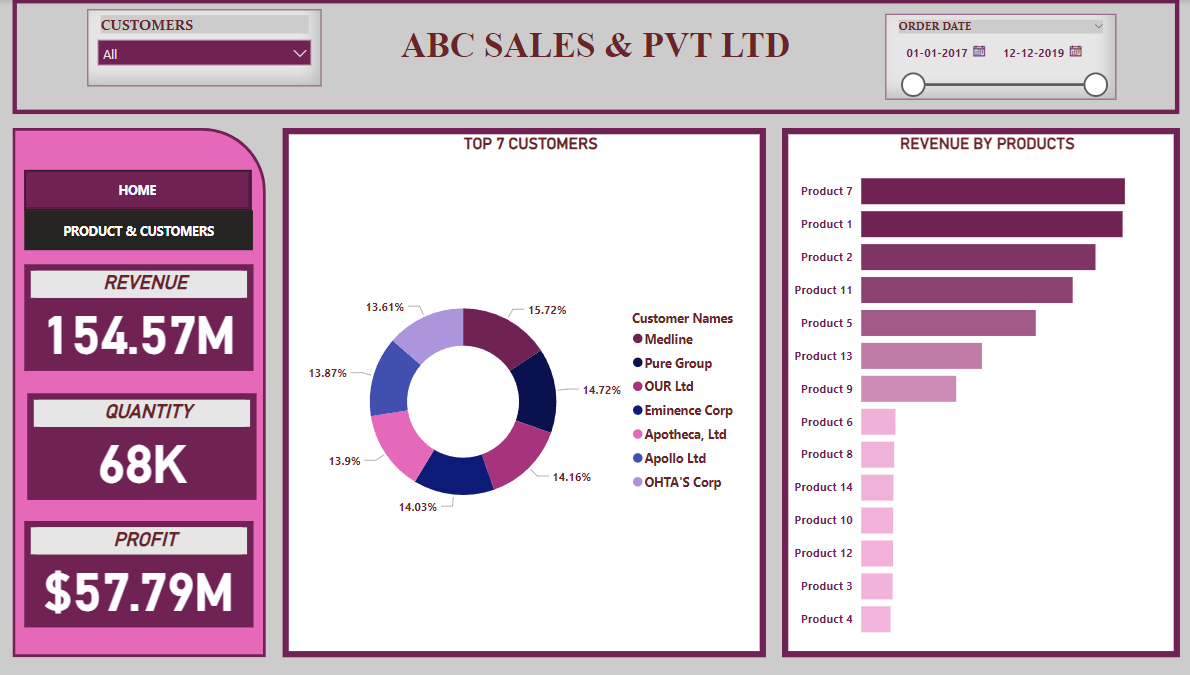

This screenshot's page, from the dashboard's own definition file:
{"tool":"powerbi","page":{"name":"PRODUCT & CUSTOMERS","canvas":[1280,720],"ordinal":1},"visuals":[{"type":"textbox","box":[14.8,0,1237,122.2],"z":0},{"type":"slicer","fields":{"Values":["Customer_Data.Customer Names"]},"box":[94.4,11.1,248.1,81.5],"z":1000},{"type":"slicer","fields":{"Values":["Sales_Data.OrderDate"]},"box":[940.7,16.7,244.4,90.7],"z":2000},{"type":"shape","box":[14.8,137,268.5,561.1],"z":3000},{"type":"card","title":"REVENUE","fields":{"Values":["Sum(Sales_Data.Total Revenue)"]},"box":[27.8,281.5,242.6,113],"z":4000},{"type":"card","title":"PROFIT","fields":{"Values":["Sum(Sales_Data.PROFIT)"]},"box":[27.8,553.7,242.6,113],"z":5000},{"type":"card","title":"QUANTITY","fields":{"Values":["Sum(Sales_Data.Order Quantity)"]},"box":[29.6,418.5,242.6,113],"z":6000},{"type":"donutChart","title":"TOP 7 CUSTOMERS","fields":{"Y":["Sum(Sales_Data.Total Revenue)"],"Category":["Customer_Data.Customer Names"]},"box":[300,137,513,561.1],"z":7000},{"type":"clusteredBarChart","title":"REVENUE BY PRODUCTS","fields":{"Y":["Sum(Sales_Data.Total Revenue)"],"Category":["Products_Data.Product Name"]},"box":[829.6,137,422.2,561.1],"z":8000},{"type":"pageNavigator","box":[27.8,224.1,242.6,42.6],"z":8001},{"type":"pageNavigator","box":[27.8,181.5,240.7,42.6],"z":8002}]}

Visuals, with their boxes in screenshot pixels (x1, y1, x2, y2), scaled from the page's 1280x720 canvas onto the 1190x675 screenshot:
textbox: box=[14, 0, 1164, 115]
slicer - Customer_Data.Customer Names: box=[88, 10, 318, 87]
slicer - Sales_Data.OrderDate: box=[875, 16, 1102, 101]
shape: box=[14, 128, 263, 654]
"REVENUE" card: box=[26, 264, 251, 370]
"PROFIT" card: box=[26, 519, 251, 625]
"QUANTITY" card: box=[28, 392, 253, 498]
"TOP 7 CUSTOMERS" donutChart: box=[279, 128, 756, 654]
"REVENUE BY PRODUCTS" clusteredBarChart: box=[771, 128, 1164, 654]
pageNavigator: box=[26, 210, 251, 250]
pageNavigator: box=[26, 170, 250, 210]
